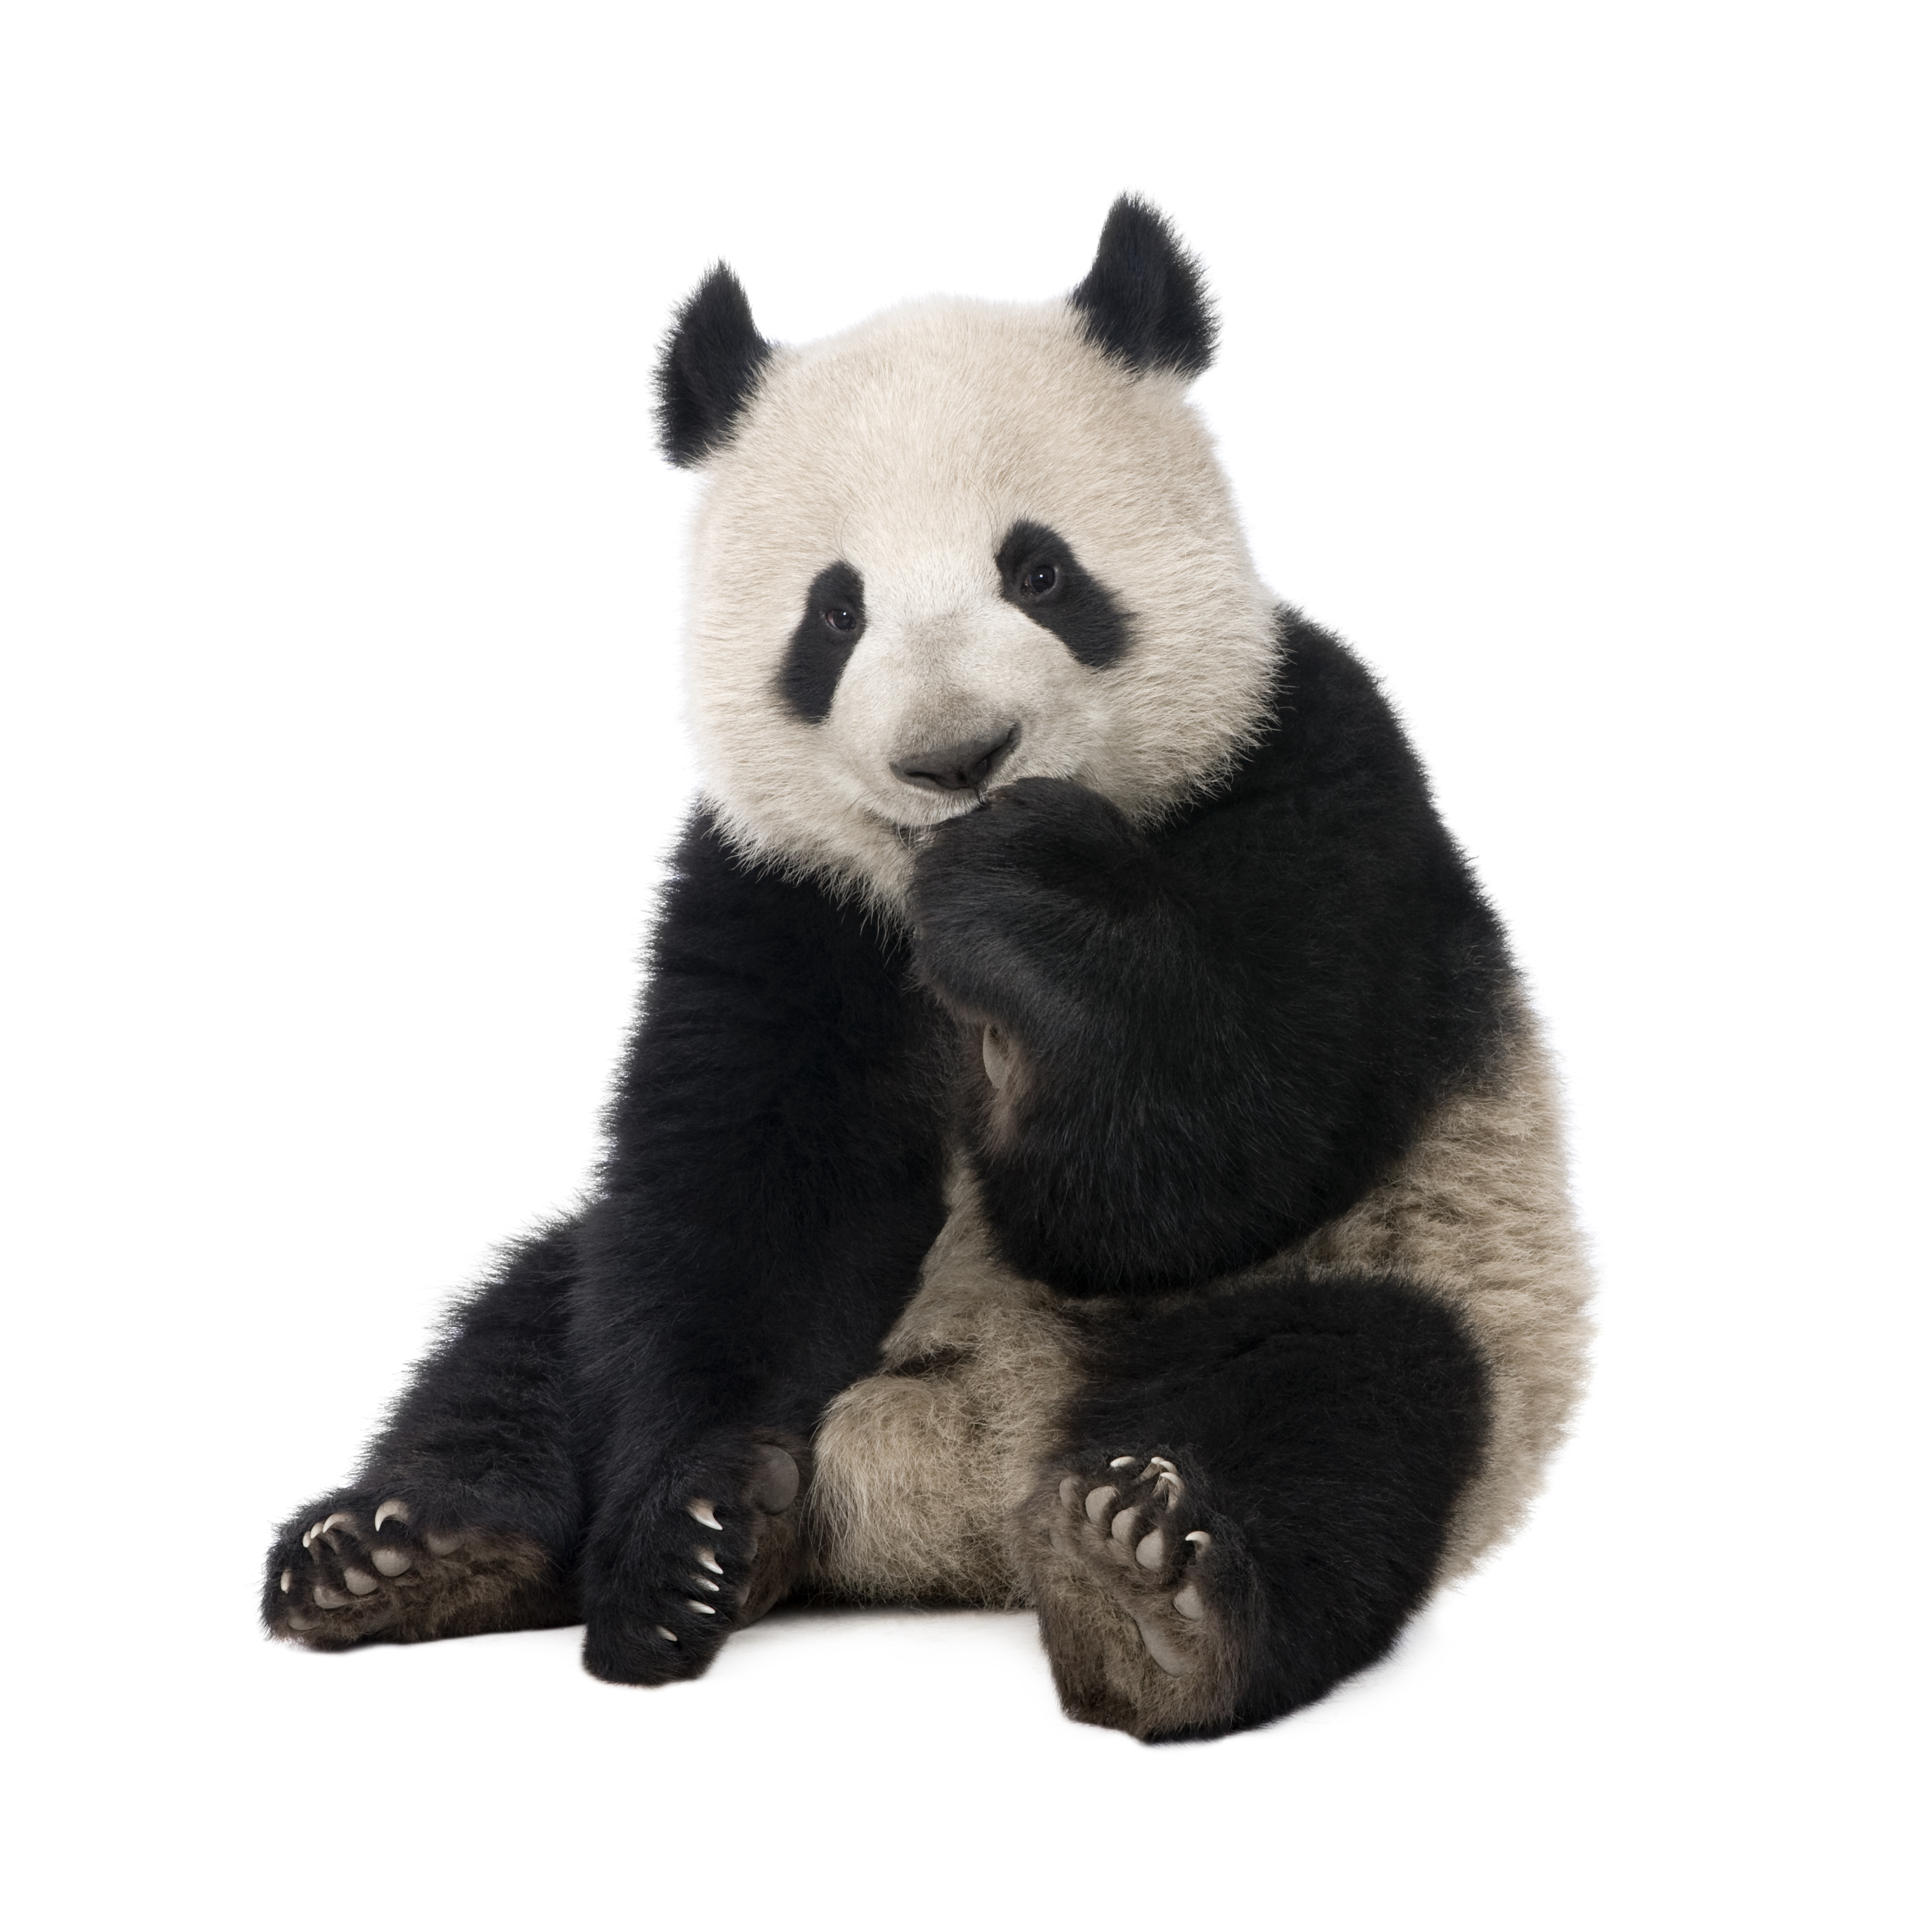panda: (344, 154, 1618, 1745)
